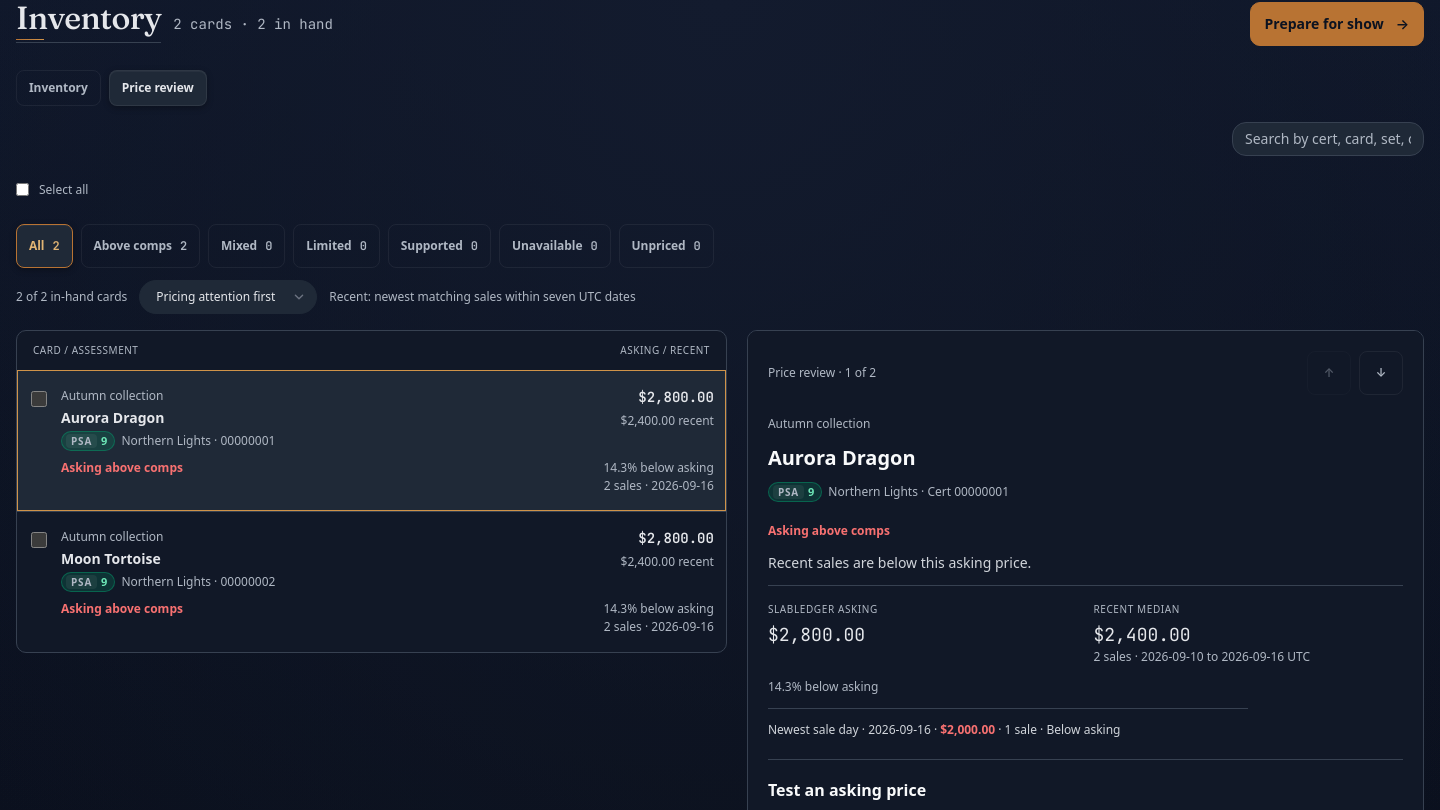
revealed selection is the actual review navigation queue, not a display-only replacement
What coordinates should you click on to do the following:
click the checkbox named "Select all visible cards"
I would click on:
 (22, 190)
Its box is [16,183,29,196].
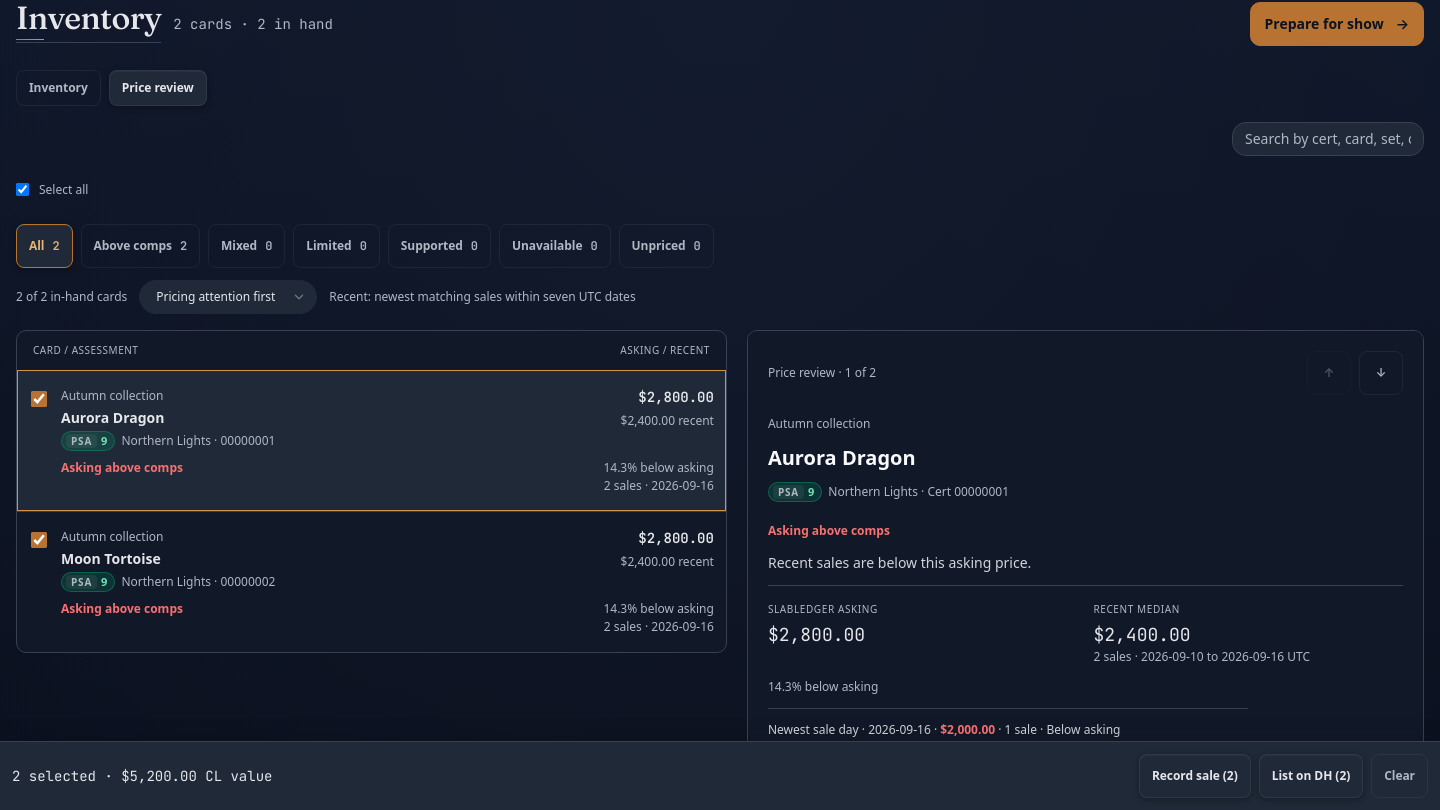
What coordinates should you click on to do the following:
click the button "Unavailable 0"
I would click on:
 (555, 246)
Its box is [499,224,611,268].
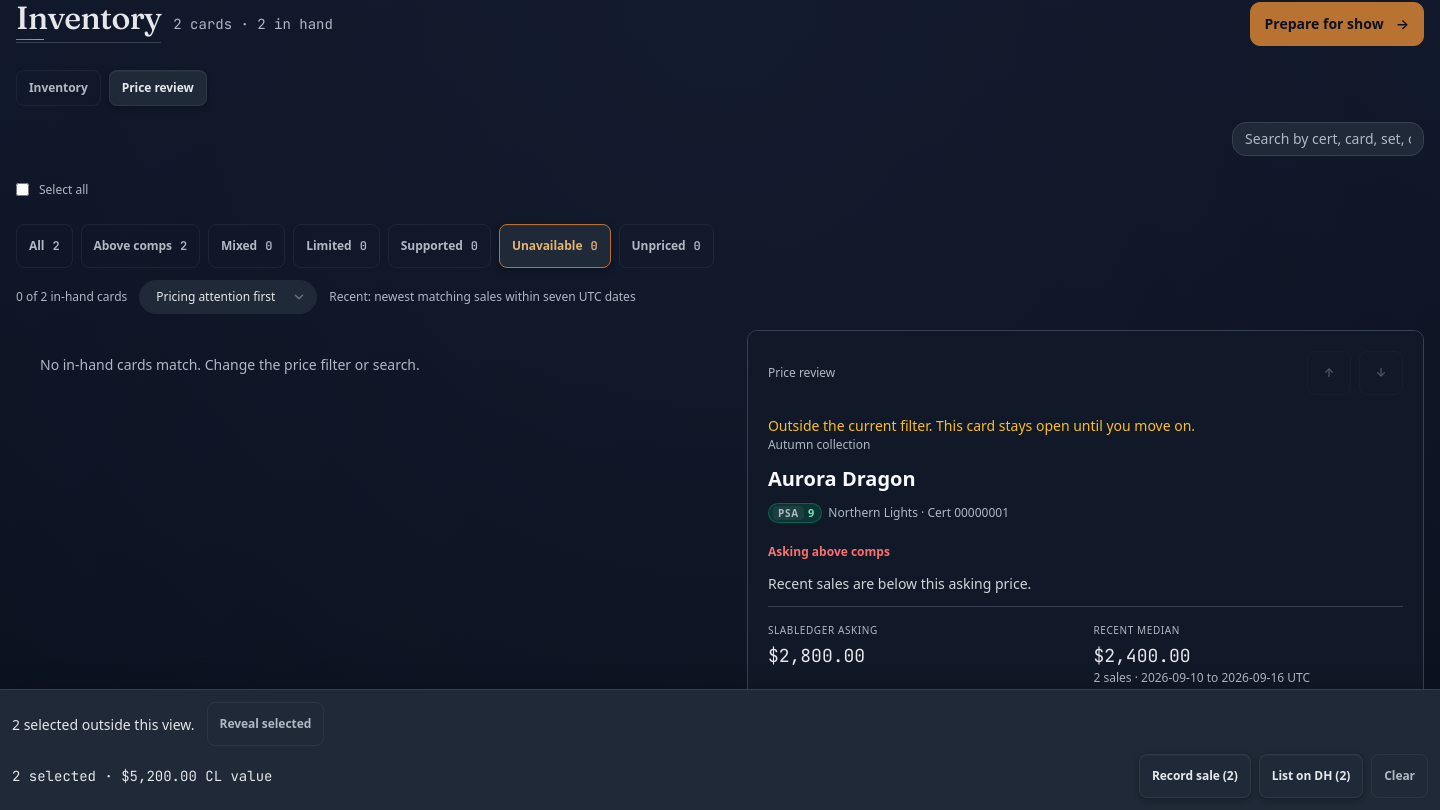
What coordinates should you click on to do the following:
click the button "Reveal selected"
I would click on:
 (265, 724)
Its box is [206,702,324,746].
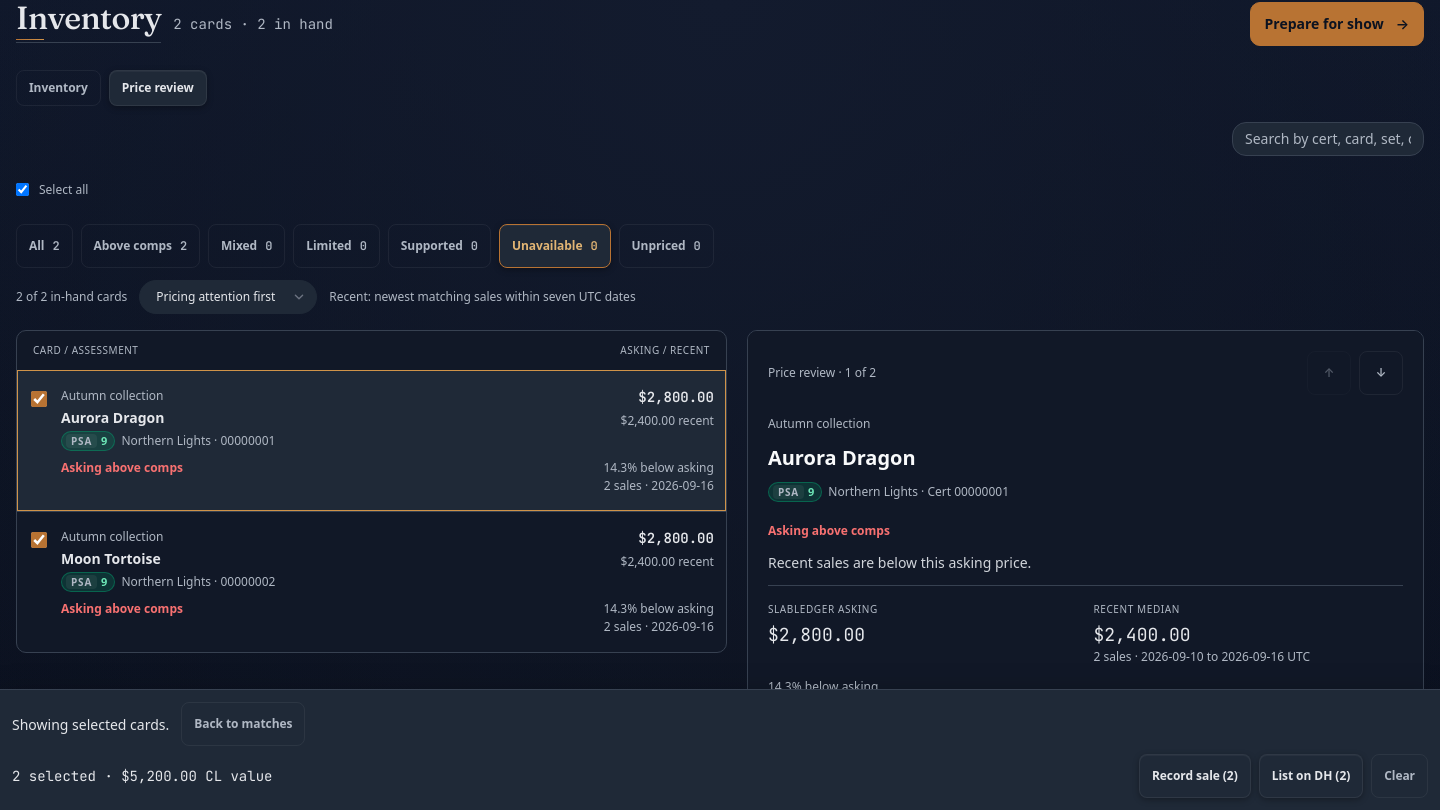
expect the list named "Price review queue" is shown: met, box [17,370,726,652]
What coordinates should you click on to do the following:
click the button named "Next card"
I would click on:
 (1381, 372)
Its box is [1359,350,1403,394].
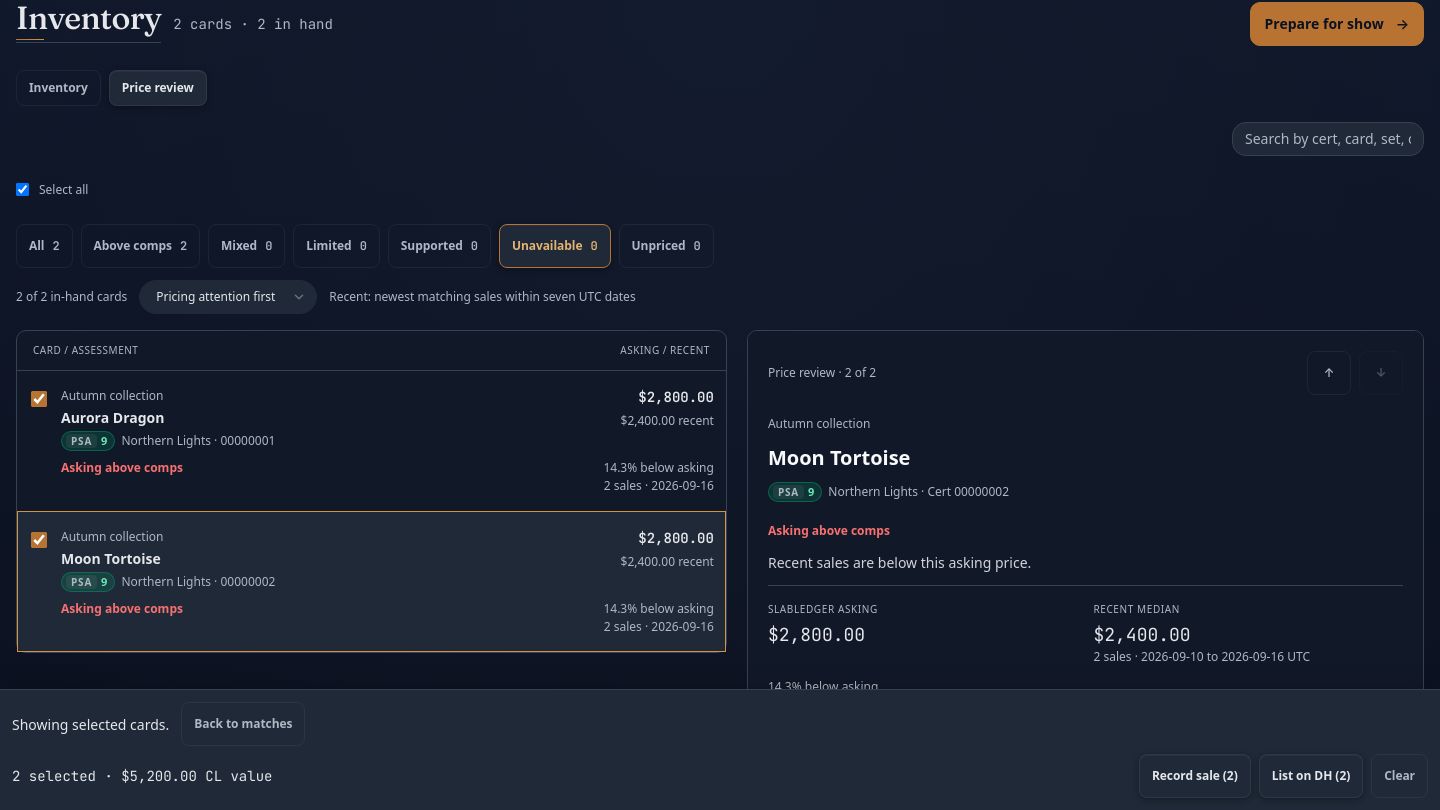
expect the heading "Moon Tortoise" is shown: met, box [768,444,910,470]
What coordinates should you click on to do the following:
click the button named "Previous card"
I would click on:
 (1329, 372)
Its box is [1307,350,1351,394].
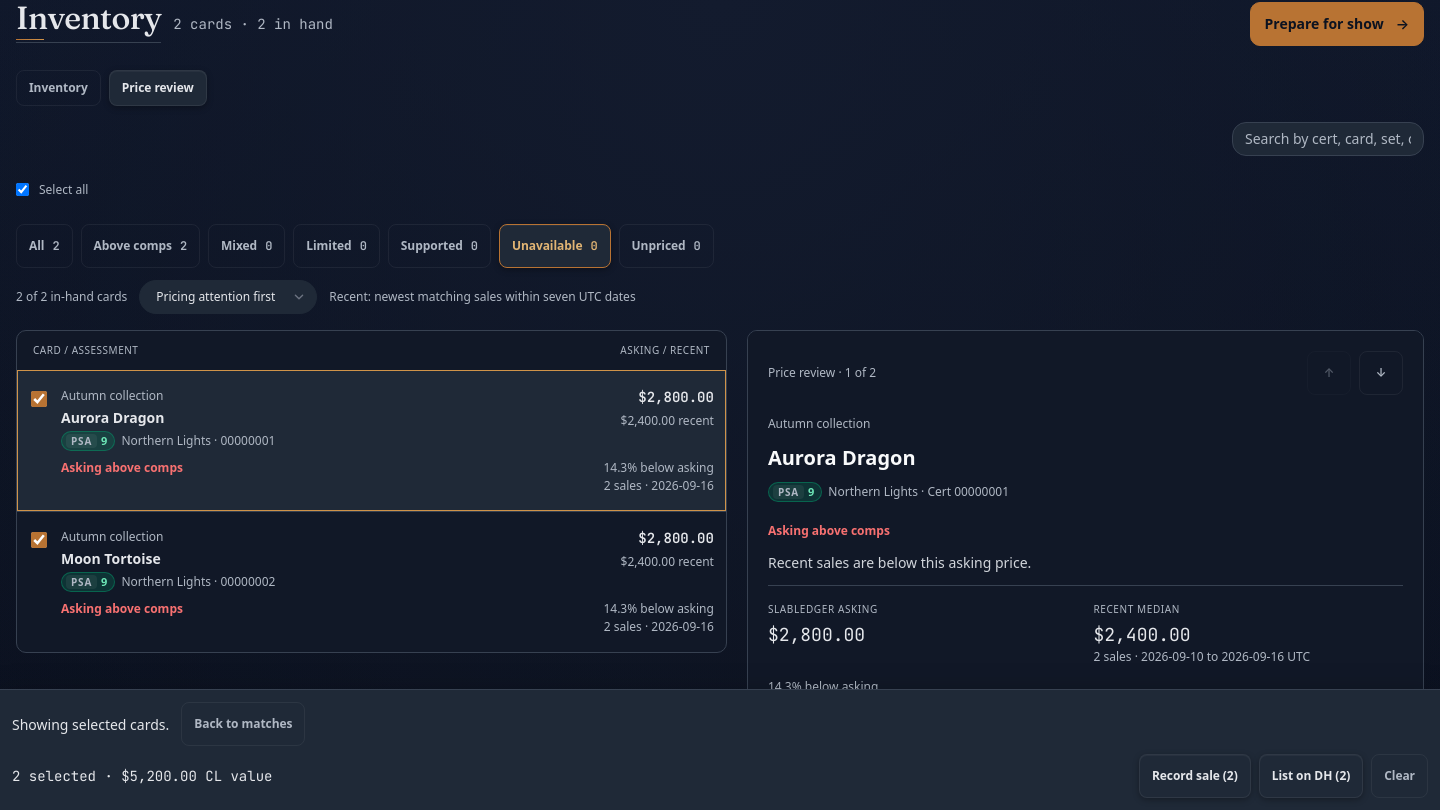
expect the checkbox named "Select Aurora Dragon" is checked: met, box [31,390,47,406]
expect the checkbox named "Select Moon Tortoise" is checked: met, box [31,532,47,548]
expect the heading "Aurora Dragon" is shown: met, box [768,444,916,470]
